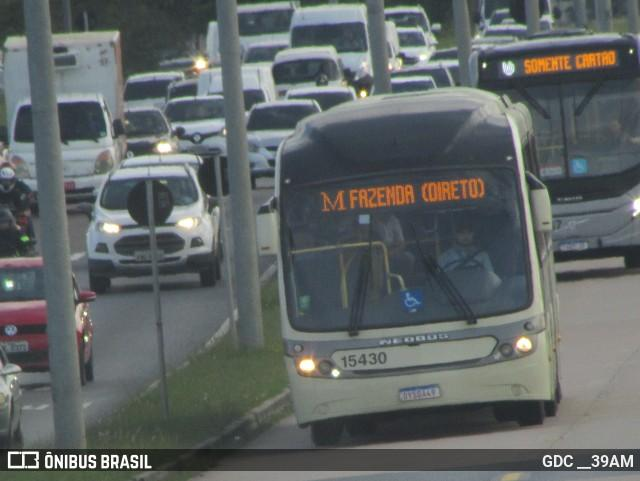FAZENDA: (345, 181, 419, 212)
